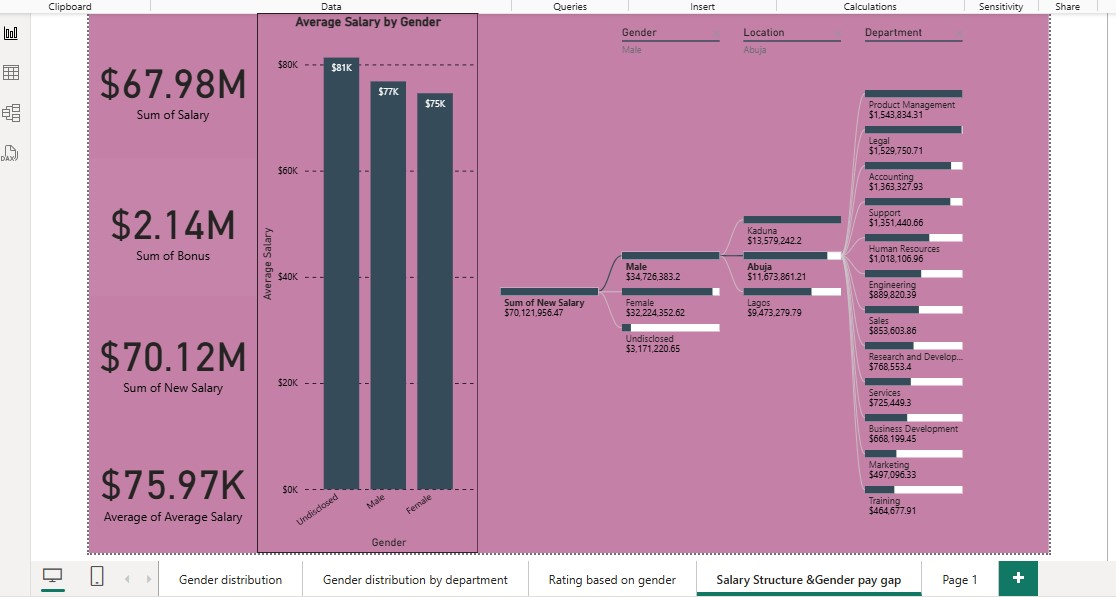

The page's visual inventory and layout, read from the dashboard file:
{"tool":"powerbi","page":{"name":"Salary Structure &Gender pay gap","canvas":[1280,720],"ordinal":3},"visuals":[{"type":"card","fields":{"Values":["Sum(moria Group emp-data.Salary)"]},"box":[0,1.3,224,192],"z":0},{"type":"card","fields":{"Values":["Sum(moria Group emp-data.Bonus)"]},"box":[0,193.3,224,184],"z":1000},{"type":"card","fields":{"Values":["Sum(moria Group emp-data.New Salary)"]},"box":[0,377.3,224,168],"z":2000},{"type":"card","fields":{"Values":["Avg(moria Group emp-data.Average Salary)"]},"box":[0,545.3,224,174.7],"z":3000},{"type":"clusteredColumnChart","fields":{"Category":["moria Group emp-data.Gender"],"Y":["Avg(moria Group emp-data.Average Salary)"]},"box":[224,0,294.7,720],"z":4000},{"type":"decompositionTreeVisual","fields":{"Analyze":["Sum(moria Group emp-data.New Salary)"],"ExplainBy":["moria Group emp-data.Gender","moria Group emp-data.Location","moria Group emp-data.Department"]},"box":[518.7,1.3,761.3,718.7],"z":5000}]}

Visuals, with their boxes on the page's 1280x720 design canvas (x1, y1, x2, y2). These are canvas units, not pixel positions in the 1116x597 screenshot, which may show the page scaled, cropped or inside an application window:
card - Sum(moria Group emp-data.Salary): 0 1 224 193
card - Sum(moria Group emp-data.Bonus): 0 193 224 377
card - Sum(moria Group emp-data.New Salary): 0 377 224 545
card - Avg(moria Group emp-data.Average Salary): 0 545 224 720
clusteredColumnChart - moria Group emp-data.Gender x Avg(moria Group emp-data.Average Salary): 224 0 519 720
decompositionTreeVisual - Sum(moria Group emp-data.New Salary) x moria Group emp-data.Gender: 519 1 1280 720
